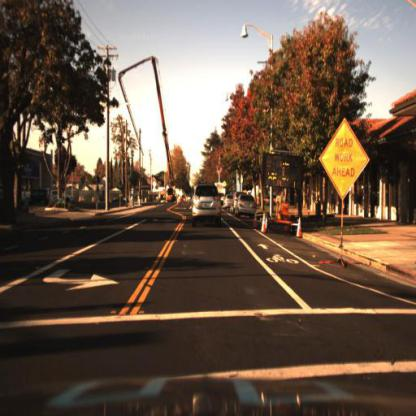car: (186, 180, 226, 229), (233, 193, 260, 220), (30, 184, 56, 211), (48, 184, 76, 206), (16, 186, 32, 209)
truck: (119, 53, 178, 204)
